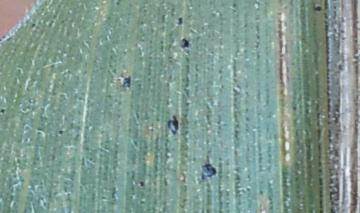tarspot: (200, 154, 218, 181), (166, 114, 179, 136), (118, 75, 134, 89), (179, 37, 191, 51), (313, 5, 323, 13), (176, 16, 183, 27), (138, 180, 145, 189), (1, 107, 7, 116), (57, 129, 65, 135), (31, 22, 36, 28)
